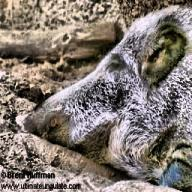boar: (16, 1, 191, 192)
